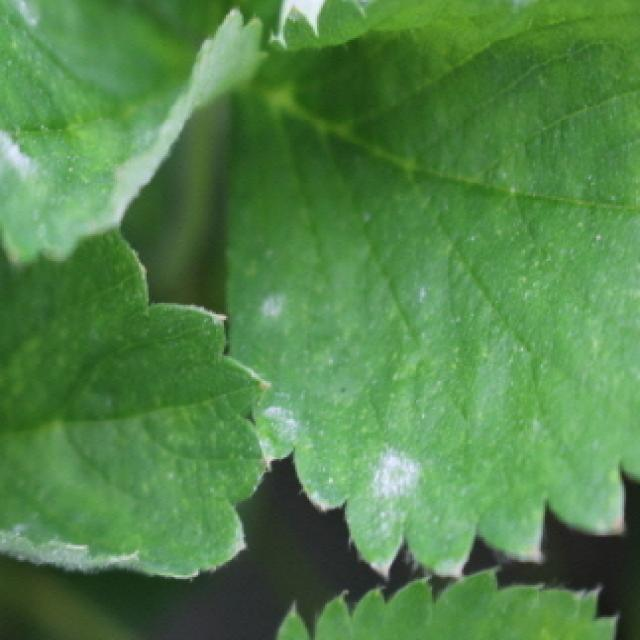Powdery Mildew Leaf: (215, 4, 640, 581), (0, 229, 278, 582)
